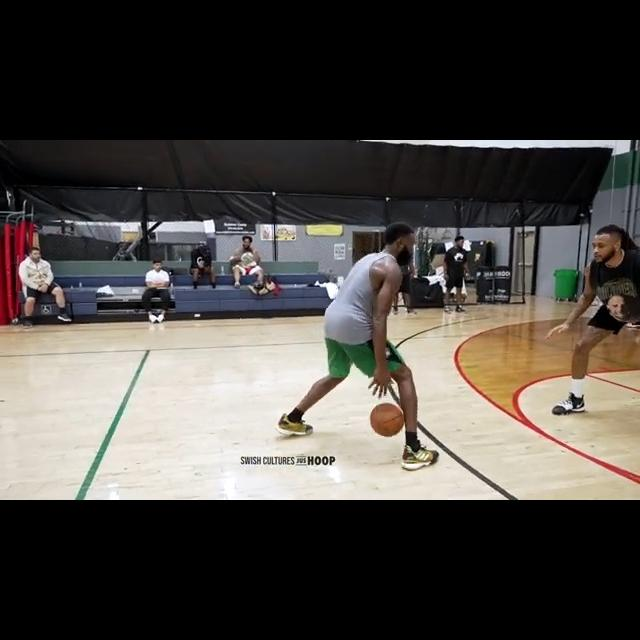basketball: (370, 403, 404, 438)
person: (275, 224, 444, 472), (547, 221, 640, 418), (17, 243, 73, 324), (392, 238, 419, 317), (141, 261, 172, 325), (229, 235, 263, 293), (443, 235, 468, 312), (188, 244, 219, 292)
